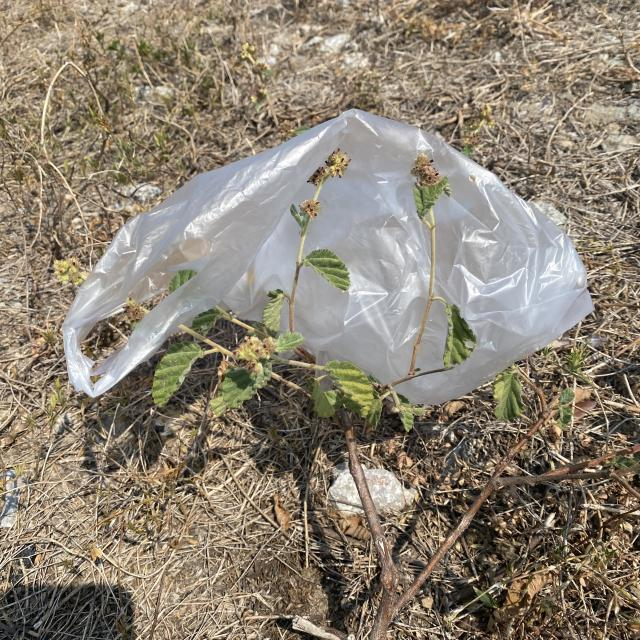Single-layer Plastic: (62, 110, 592, 404)
